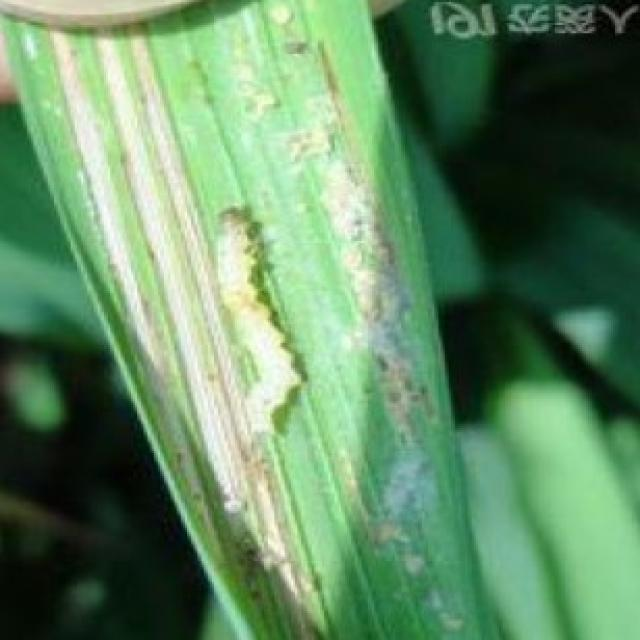rice leaf roller: (50, 35, 310, 594), (251, 2, 457, 638)
